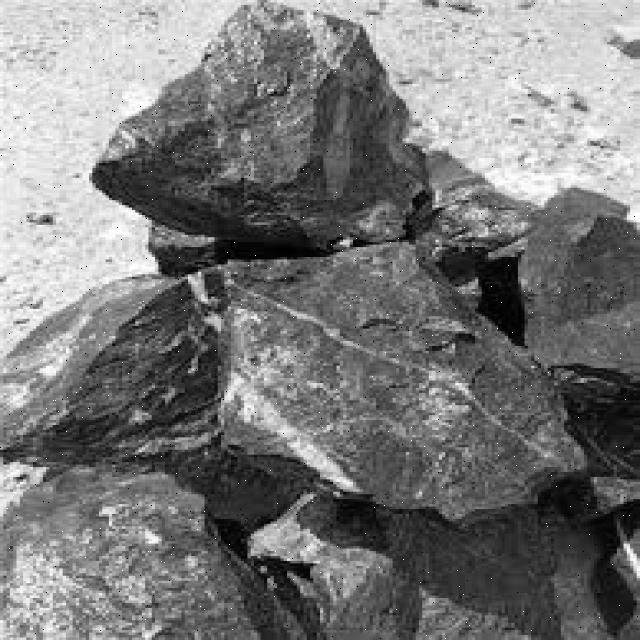Metamorphic: (10, 10, 633, 637)
